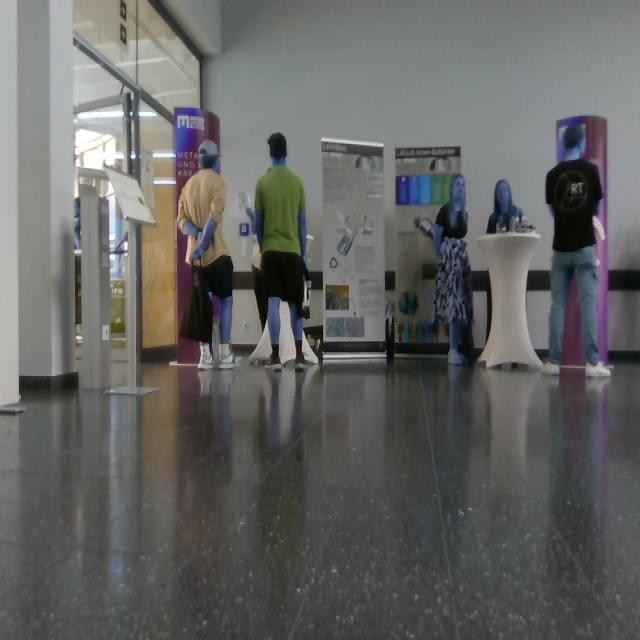door: (321, 139, 386, 355)
light bulb: (334, 210, 374, 256), (414, 216, 434, 236), (337, 234, 355, 256), (355, 156, 374, 170), (305, 235, 314, 263)
person: (541, 124, 612, 378), (177, 140, 243, 370), (255, 133, 310, 372), (433, 173, 475, 365)
tiled floor: (1, 354, 640, 640)
